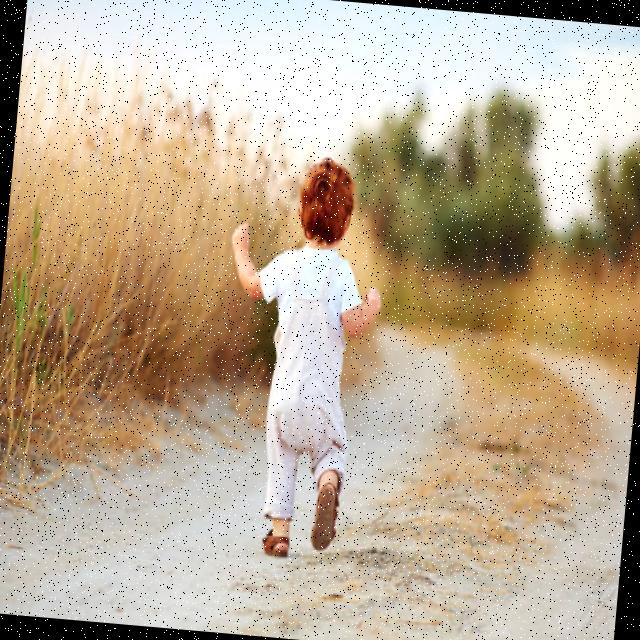Person: (203, 151, 391, 563)
